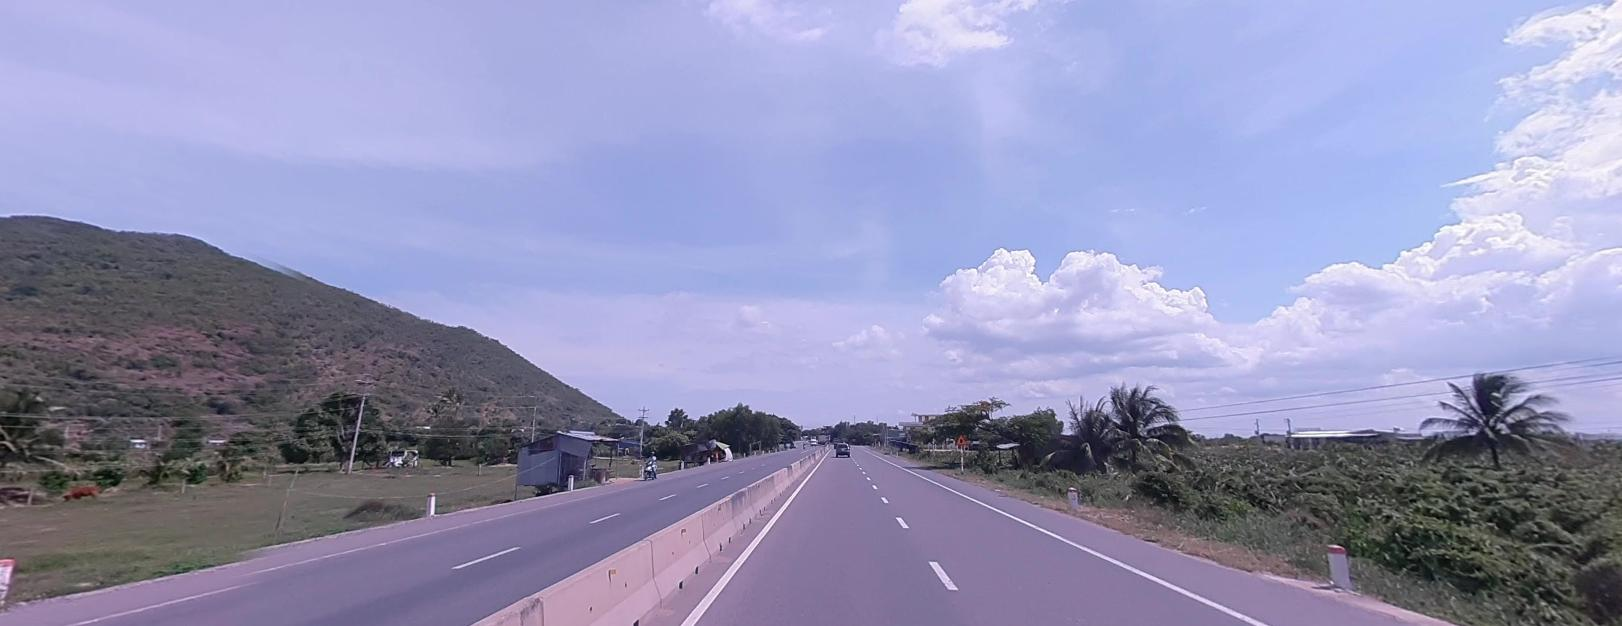Nguy hiem: (955, 433, 968, 444)
